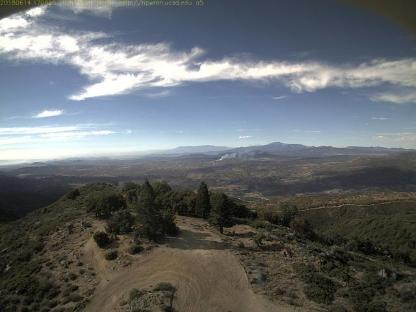smoke: (211, 146, 264, 162)
